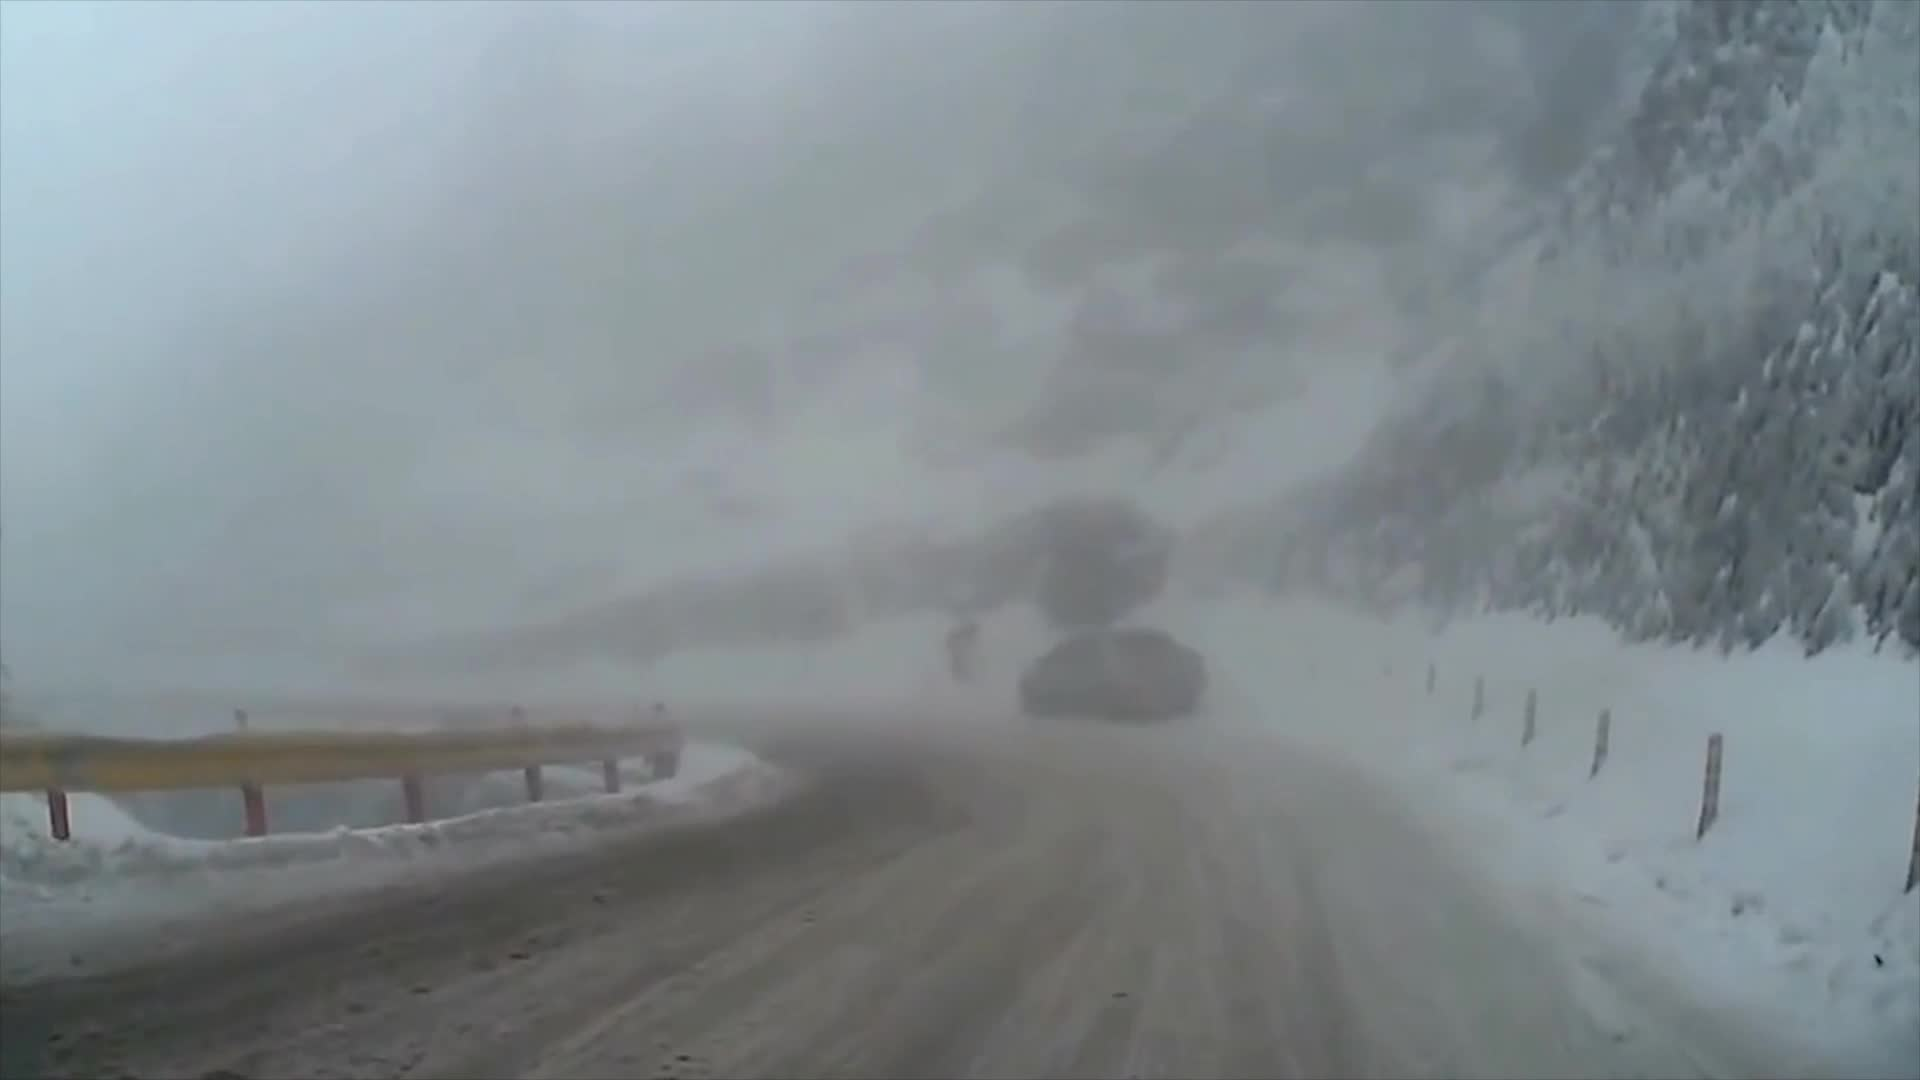pedestrian: (944, 624, 982, 688)
vehicle: (1018, 629, 1206, 724)
